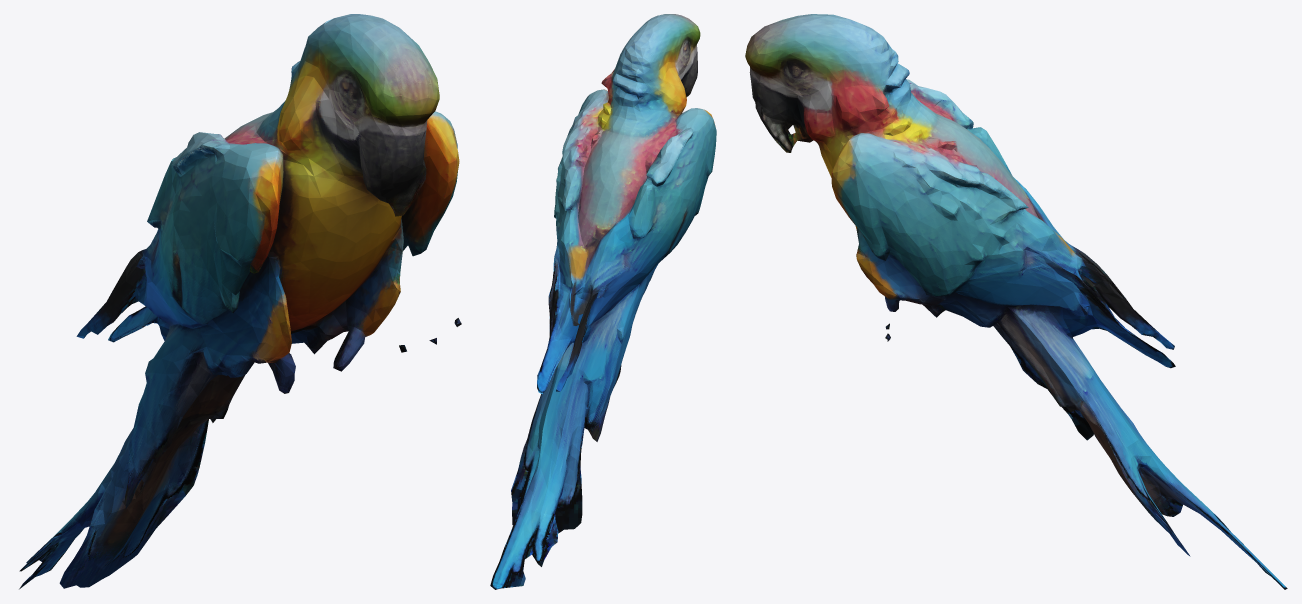
3 renders of one model, left to right at view 1: azimuth 30°, elevation 25°; view 2: azimuth 150°, elevation 25°; view 3: azimuth 270°, elevation 25°, orthographic. The views are drawn at different scales.
Parts seen in each view (by area): view 1: world; view 2: world; view 3: world.
Boxes of the visible parts, box(x1,y1,x2,y2) form: world: box(19, 14, 461, 589); world: box(490, 14, 716, 589); world: box(745, 14, 1287, 589).
Size of the model in its own units: 0.2903 by 0.8375 by 0.7108.
Materials: 1 (1 with a texture image).
